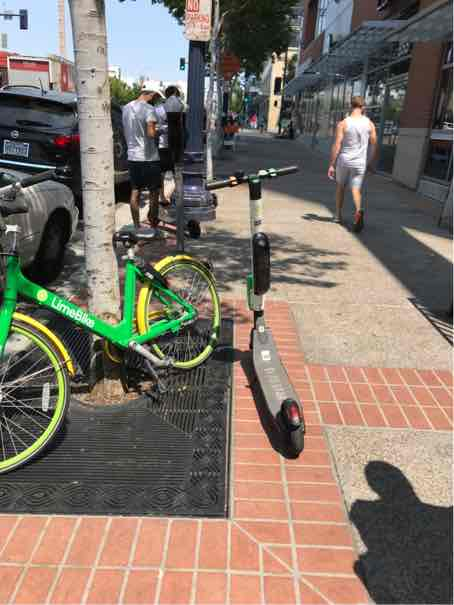scooter: (201, 158, 309, 458)
